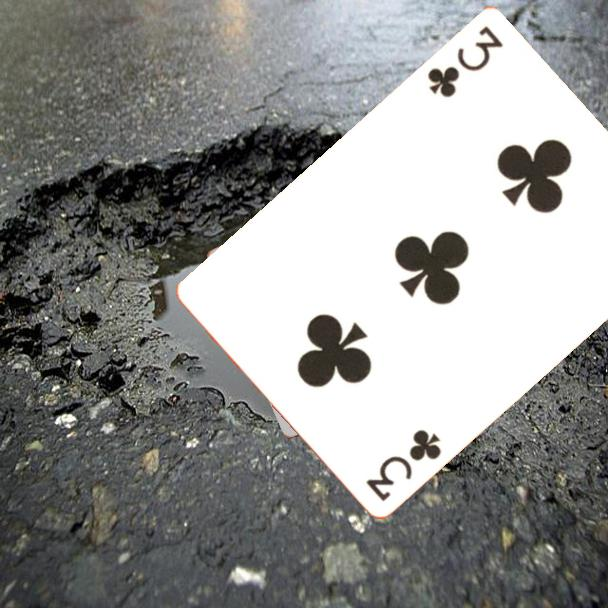c03: (423, 21, 507, 100), (362, 425, 445, 504)
